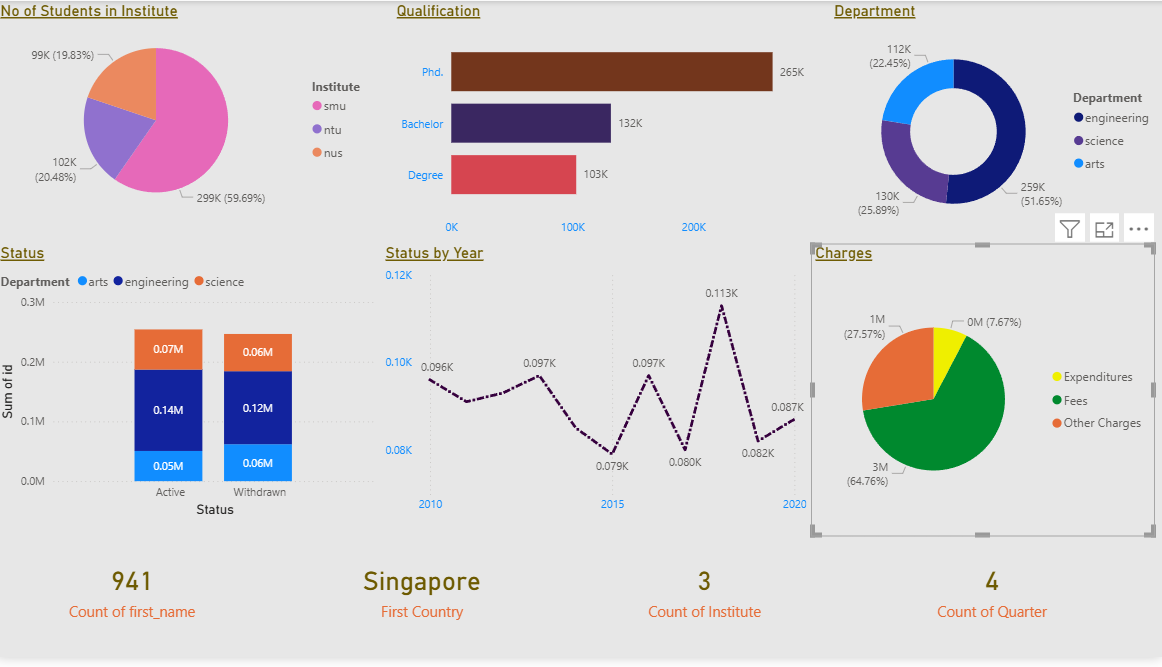

The page's visual inventory and layout, read from the dashboard file:
{"tool":"powerbi","page":{"name":"institute planing dashboard p3","canvas":[1280,720],"ordinal":0},"visuals":[{"type":"card","fields":{"Values":["Count(data.first_name)"]},"box":[0,570.8,299.1,149.6],"z":0},{"type":"card","fields":{"Values":["Count(data.Quarter)"]},"box":[915.3,570.8,356.8,149.6],"z":2},{"type":"card","fields":{"Values":["Count(data.Institute)"]},"box":[628.5,570.8,299.1,149.6],"z":3},{"type":"card","fields":{"Values":["Min(data.Country)"]},"box":[318.4,570.8,299.1,149.6],"z":4},{"type":"pieChart","title":"No of Students in Institute","fields":{"Y":["Sum(data.id)"],"Category":["data.Institute"]},"box":[0,0,422.6,241.5],"z":5},{"type":"barChart","title":"Qualification","fields":{"Category":["data.Qualification"],"Y":["Sum(data.id)"]},"box":[435,0,472,266.2],"z":6},{"type":"donutChart","title":" Department","fields":{"Category":["data.Department"],"Y":["Sum(data.id)"]},"box":[915.3,0,365,266.2],"z":7},{"type":"columnChart","title":"Status ","fields":{"Category":["data.Status"],"Series":["data.Department"],"Y":["Sum(data.id)"]},"box":[0,266.2,422.6,304.6],"z":8},{"type":"lineChart","title":" Status by Year","fields":{"Category":["data.Year"],"Y":["CountNonNull(data.Status)"]},"box":[422.6,266.2,472,304.6],"z":9},{"type":"pieChart","title":"Charges","fields":{"Y":["Sum(data.Expenditures)","Sum(data.Fees)","Sum(data.Other Charges)"]},"box":[894.7,266.2,377.4,321.1],"z":10}]}

Visuals, with their boxes in screenshot pixels (x1, y1, x2, y2), scaled from the page's 1280x720 canvas onto the 1162x667 screenshot:
card - Count(data.first_name): Rect(0, 529, 272, 666)
card - Count(data.Quarter): Rect(831, 529, 1155, 666)
card - Count(data.Institute): Rect(571, 529, 842, 666)
card - Min(data.Country): Rect(289, 529, 561, 666)
"No of Students in Institute" pieChart: Rect(0, 0, 384, 224)
"Qualification" barChart: Rect(395, 0, 823, 247)
" Department" donutChart: Rect(831, 0, 1161, 247)
"Status " columnChart: Rect(0, 247, 384, 529)
" Status by Year" lineChart: Rect(384, 247, 812, 529)
"Charges" pieChart: Rect(812, 247, 1155, 544)
